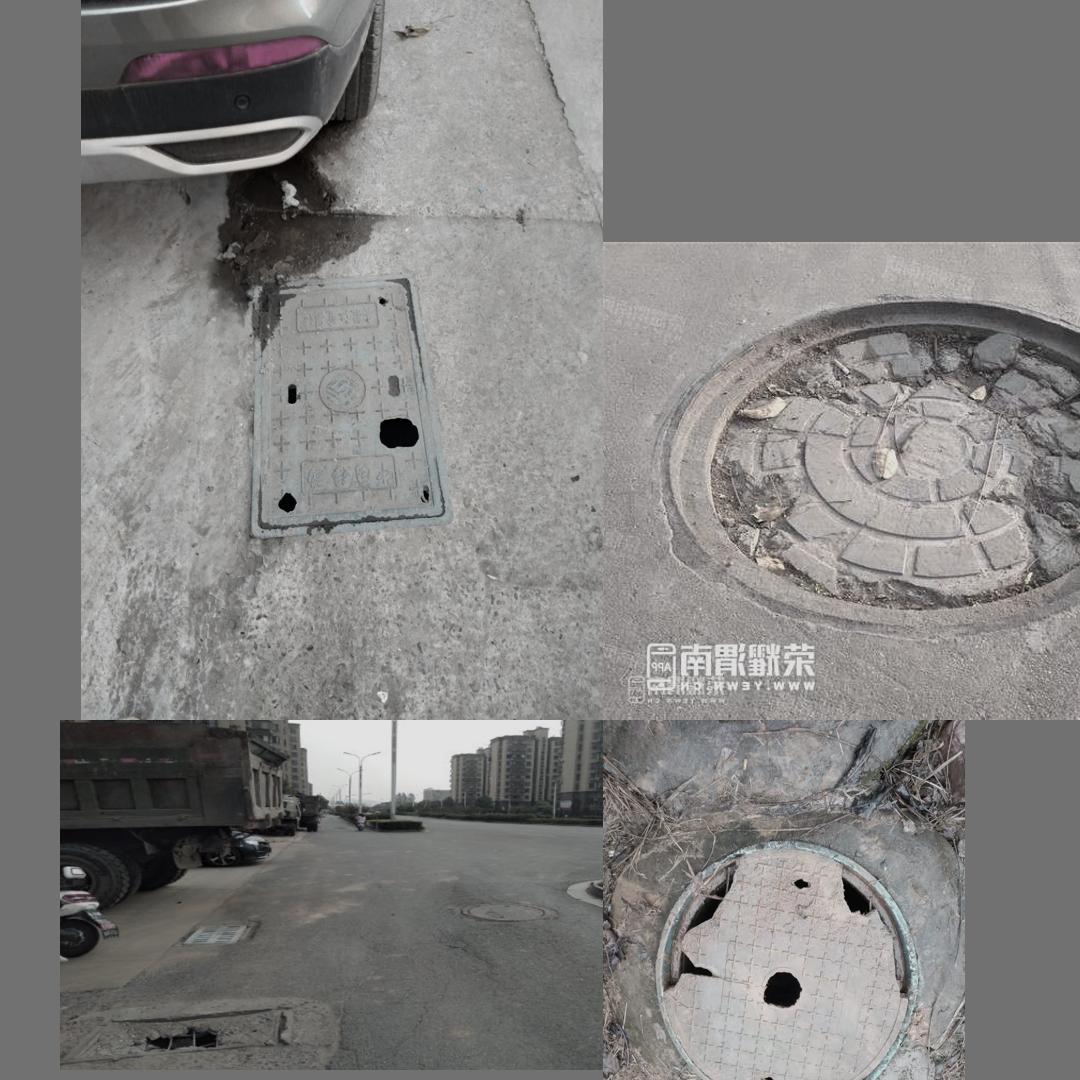broke: (651, 287, 1080, 631), (652, 840, 918, 1080), (248, 273, 454, 537), (71, 997, 295, 1058)
